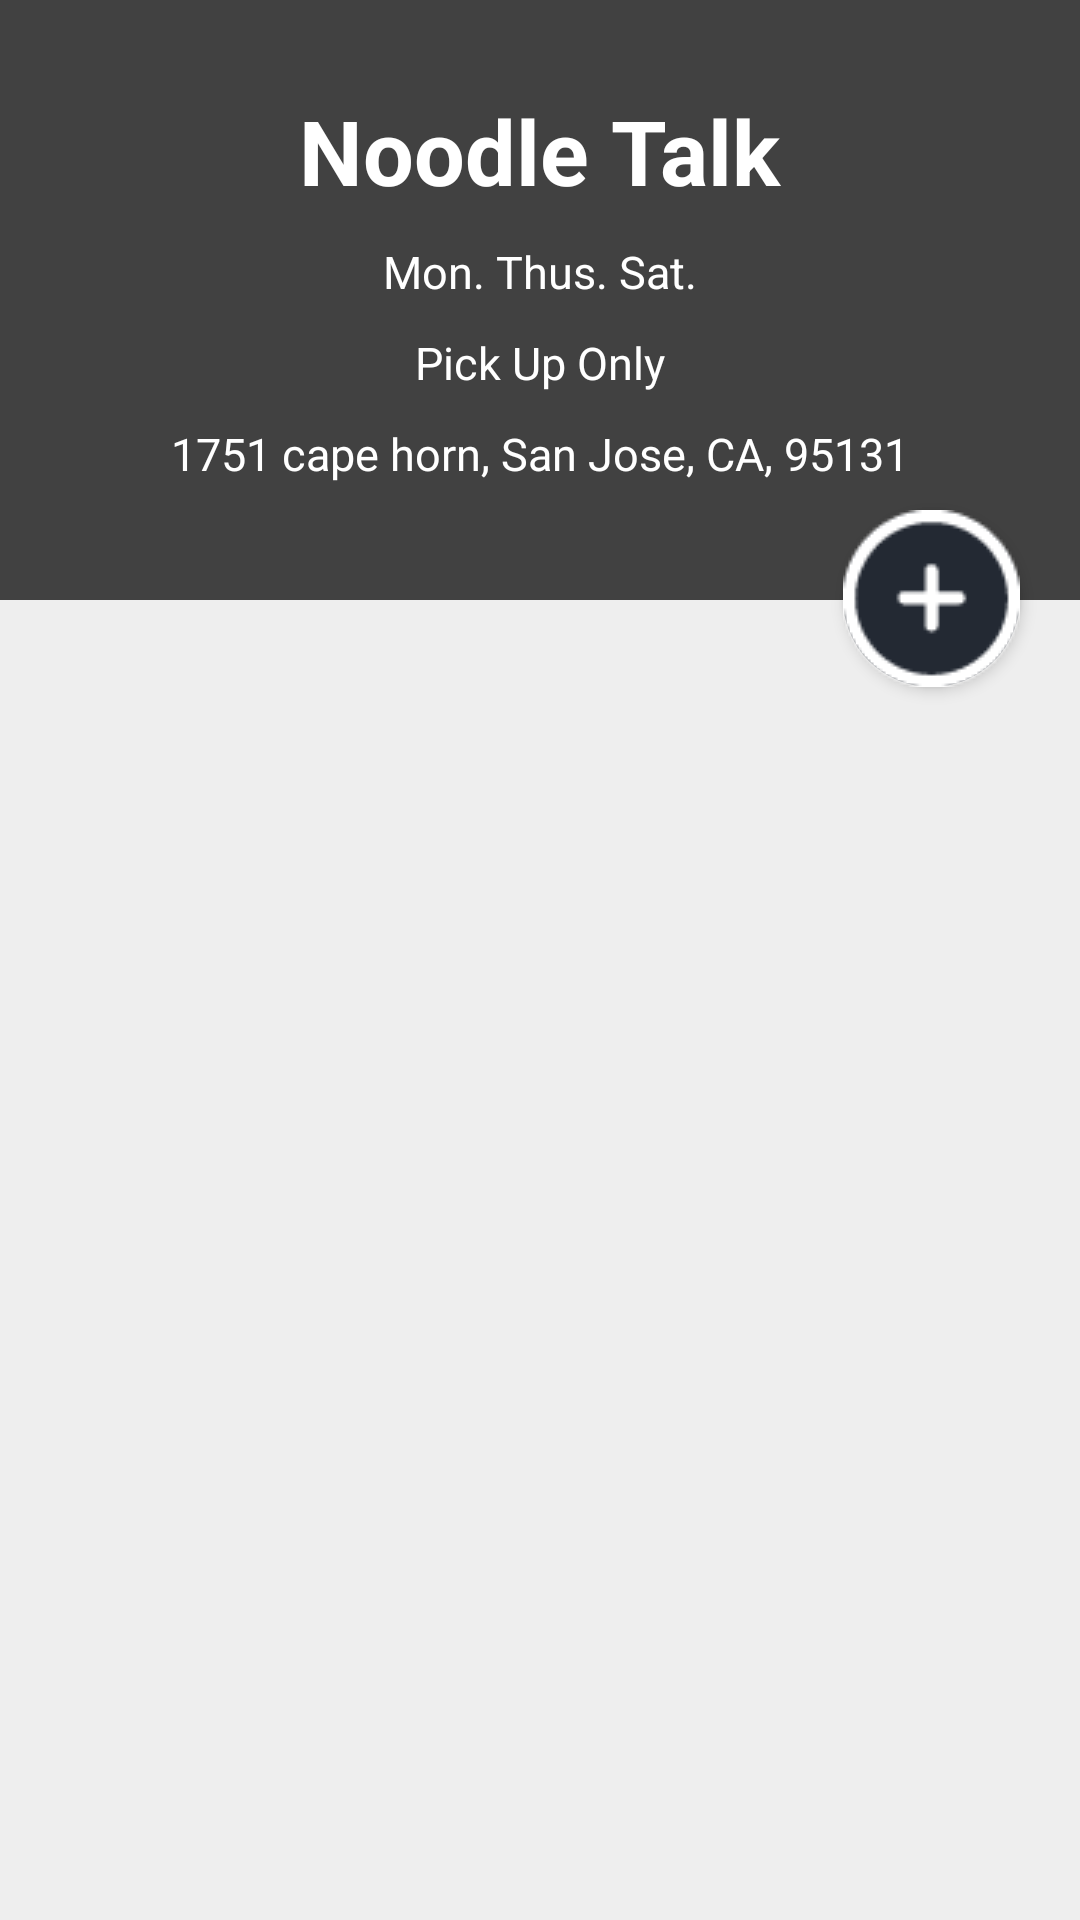

Point at icon controls on the screen. Image size 1080px×1920px, points as (x,y).
plusiconbig: (931,598)
